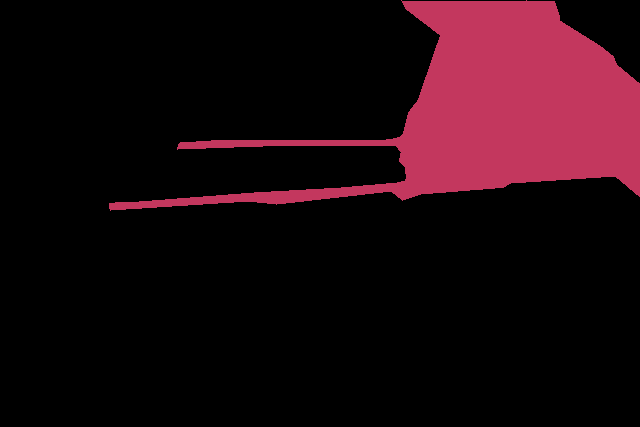Airplane: (109, 0, 640, 210)
